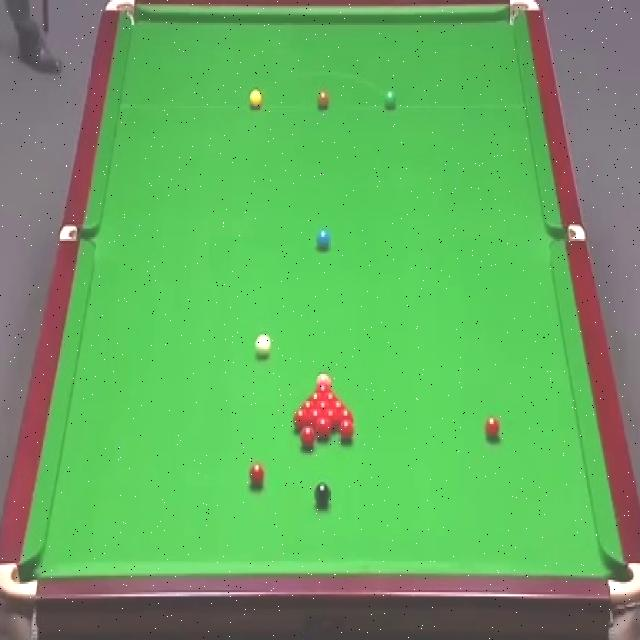black-ball: (313, 481, 331, 508)
blue-ball: (316, 228, 330, 250)
brown-ball: (316, 88, 330, 110)
green-ball: (381, 90, 397, 110)
pink-ball: (315, 372, 331, 388)
red-ball: (248, 465, 266, 491), (484, 414, 501, 440), (300, 425, 317, 448), (292, 408, 310, 429), (339, 419, 354, 442), (315, 418, 331, 438), (310, 408, 325, 425), (326, 410, 339, 429), (340, 408, 352, 427), (316, 400, 332, 410), (331, 400, 347, 409), (307, 393, 323, 402), (314, 384, 331, 392), (301, 400, 316, 409), (323, 392, 337, 401)
white-ball: (253, 332, 270, 359)
yellow-ball: (248, 87, 262, 109)
